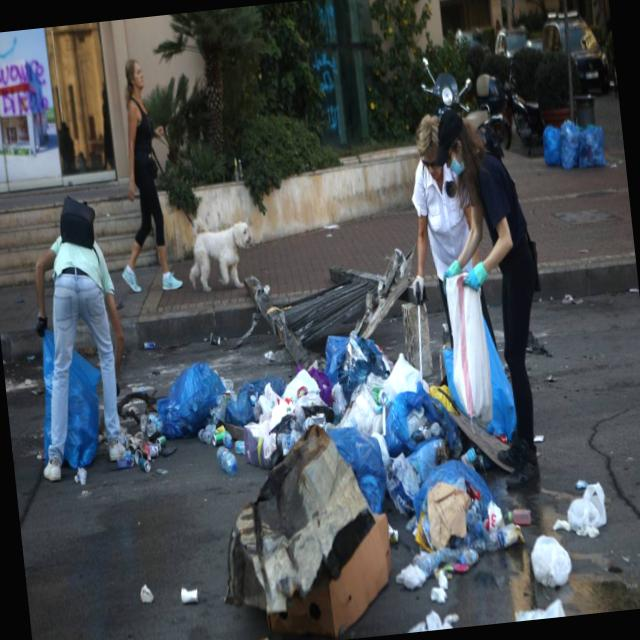garbage: (131, 235, 573, 640)
